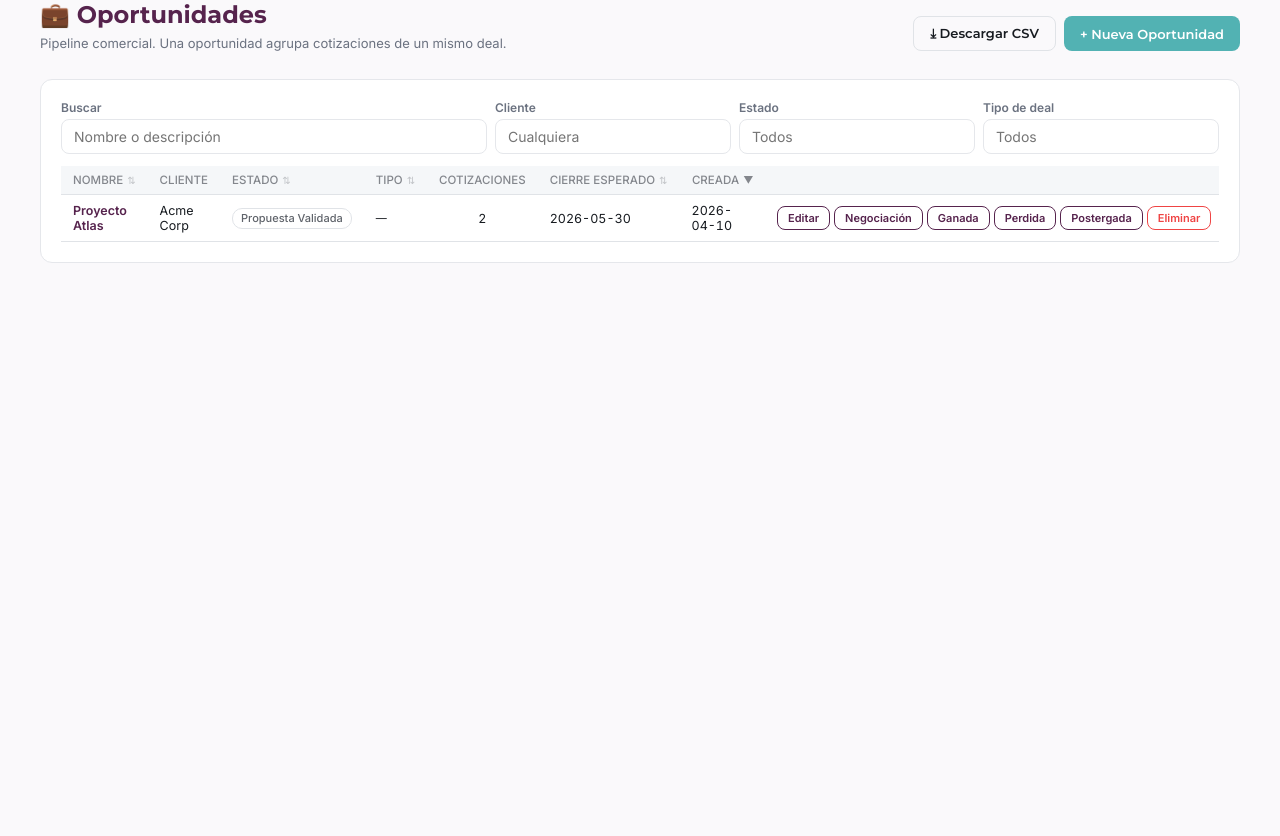
it: Opportunities module › contract_type + monto estimado › muestra dropdown de Tipo de contrato y campo Monto estimado
Check: the link "Proyecto Atlas" is shown, box left=73, top=203, right=127, bottom=233
Step 1. Click the dropdown named "Filtro por cliente" → (613, 136), box left=495, top=119, right=731, bottom=154
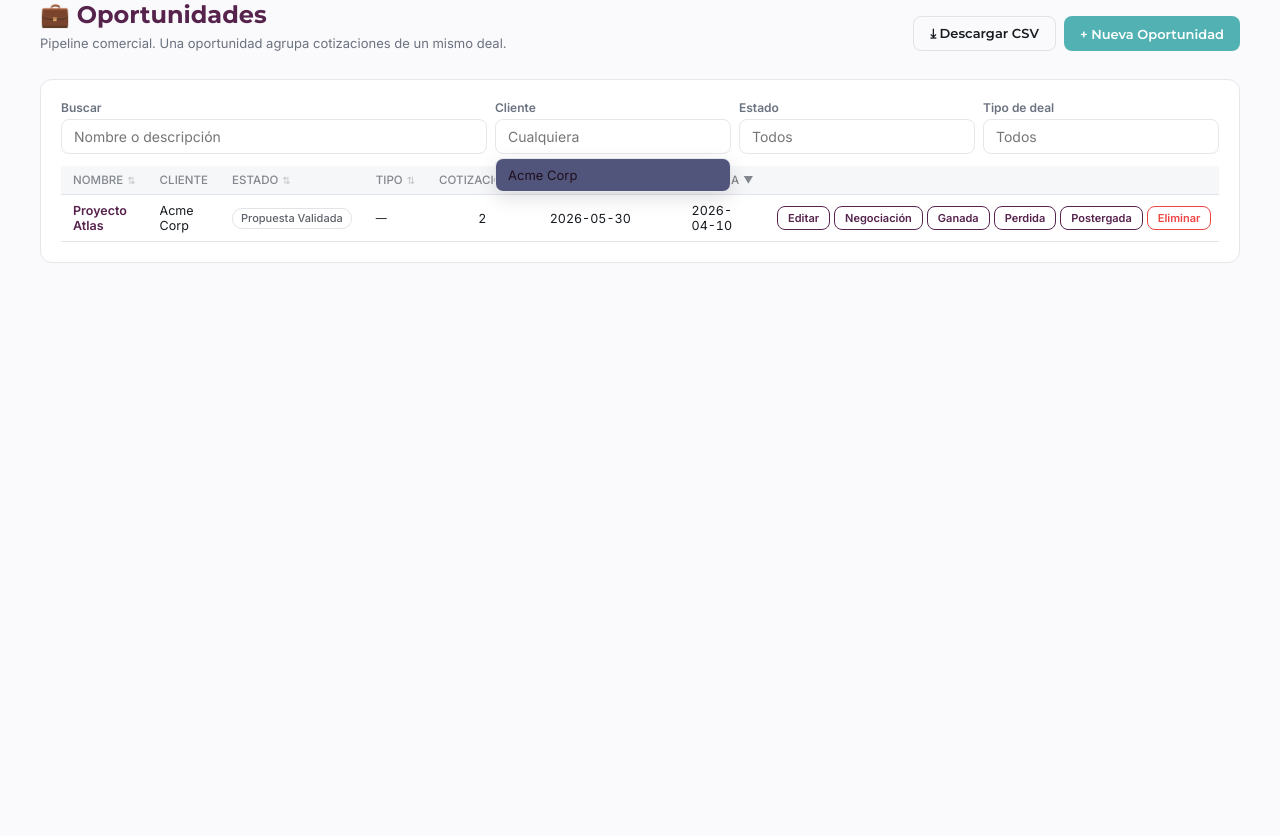
Check: the list is shown, box left=495, top=158, right=731, bottom=192
Check: the option "Acme Corp" is shown, box left=496, top=159, right=730, bottom=191
Step 2. Press Escape in the dropdown named "Filtro por cliente", box left=495, top=119, right=731, bottom=154
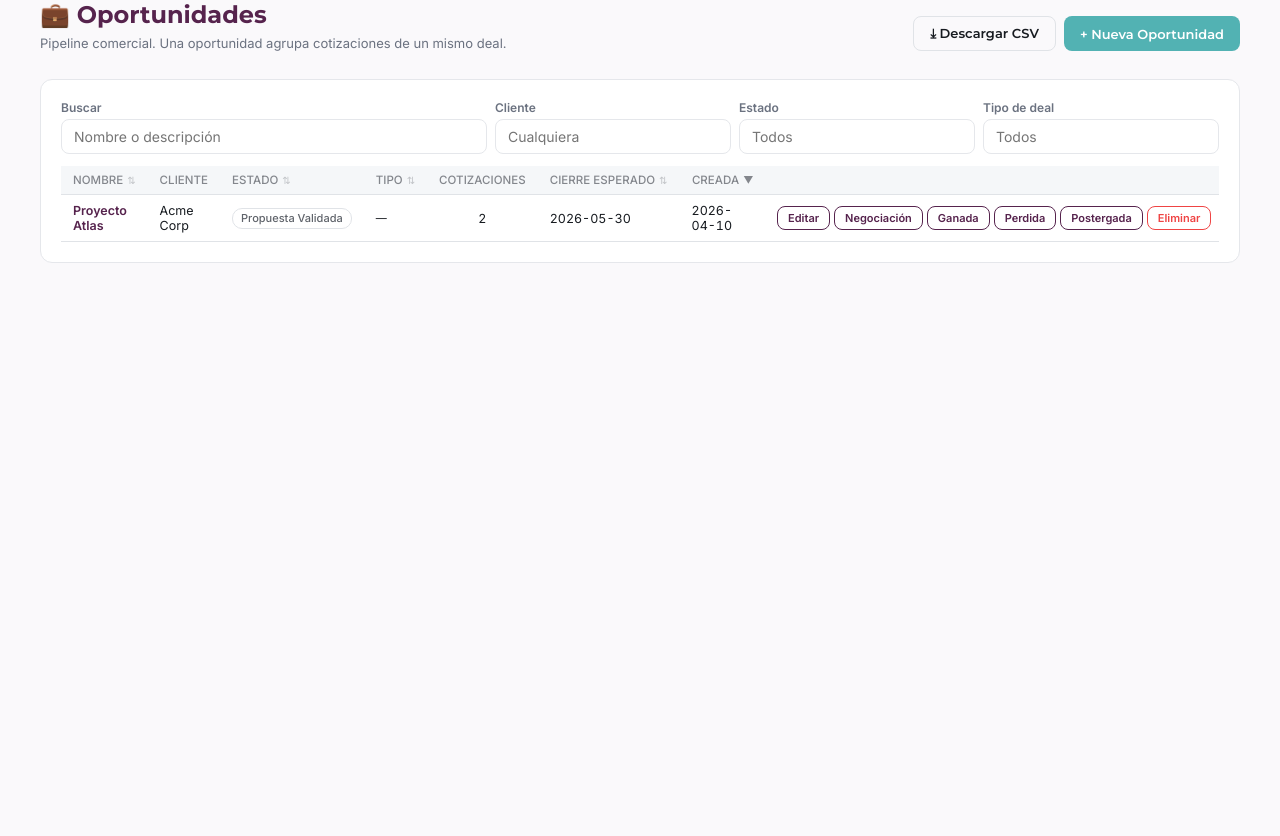
Step 3. Click the button "+ Nueva Oportunidad" → (1152, 34), box left=1064, top=16, right=1240, bottom=51
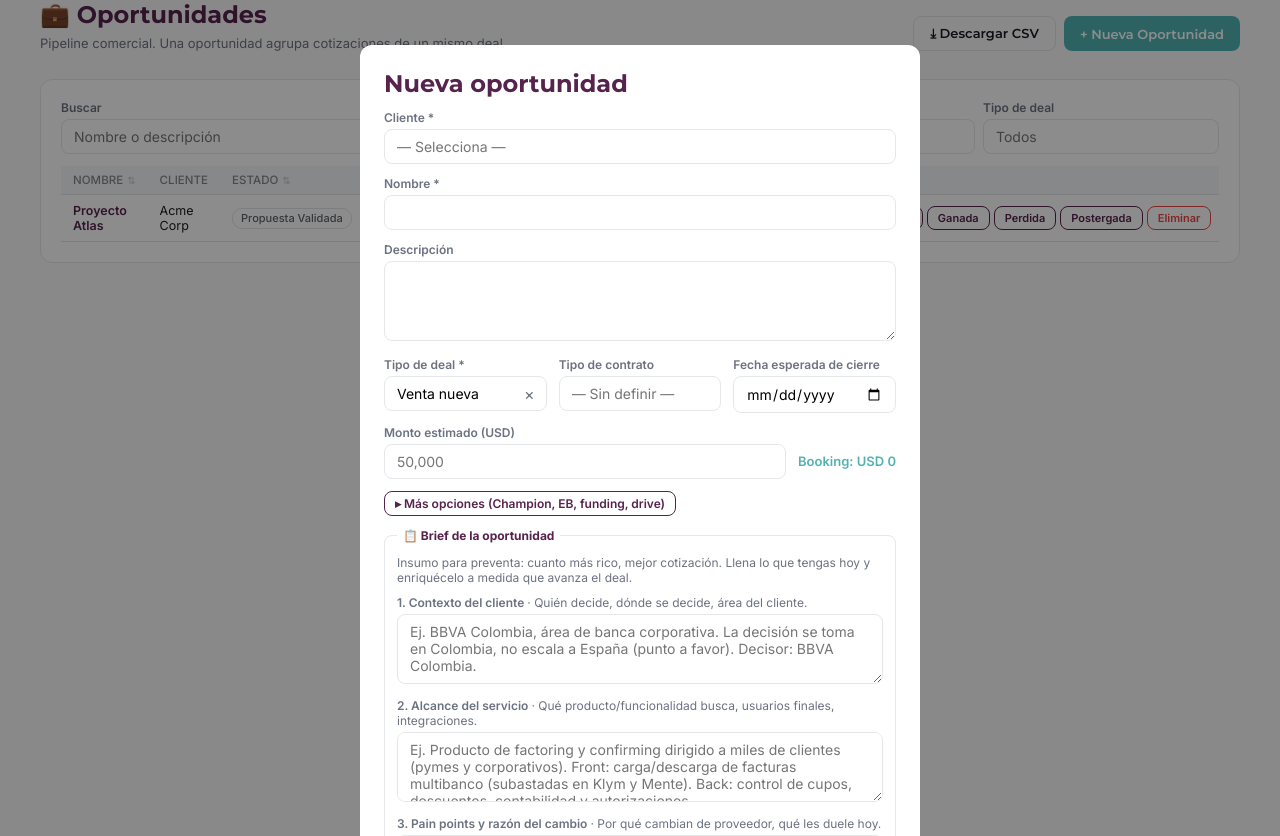
Check: the dropdown named "Tipo de contrato" is shown, box left=559, top=376, right=721, bottom=411
Check: the field named "Monto estimado USD" is shown, box left=384, top=444, right=786, bottom=479
